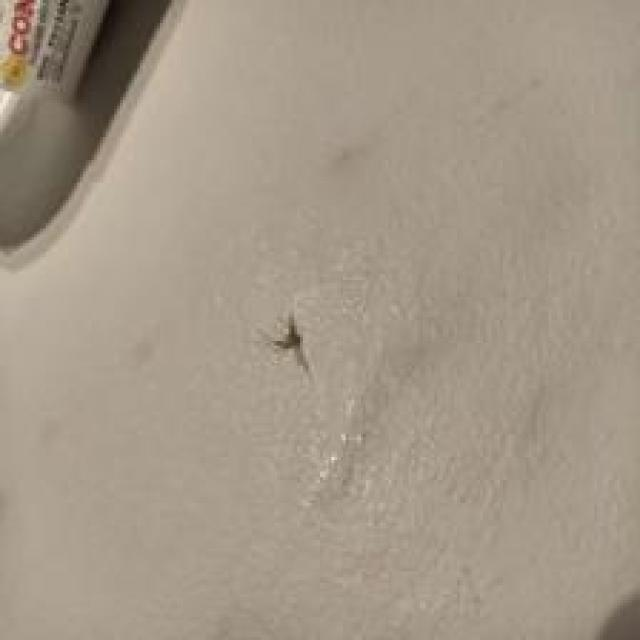Culex: (264, 310, 313, 373)
